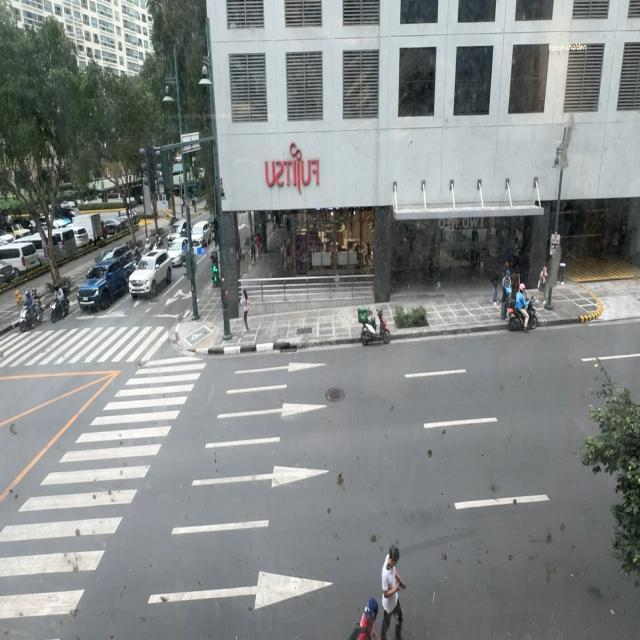jaywalking: (380, 538, 400, 636), (355, 583, 378, 640)
